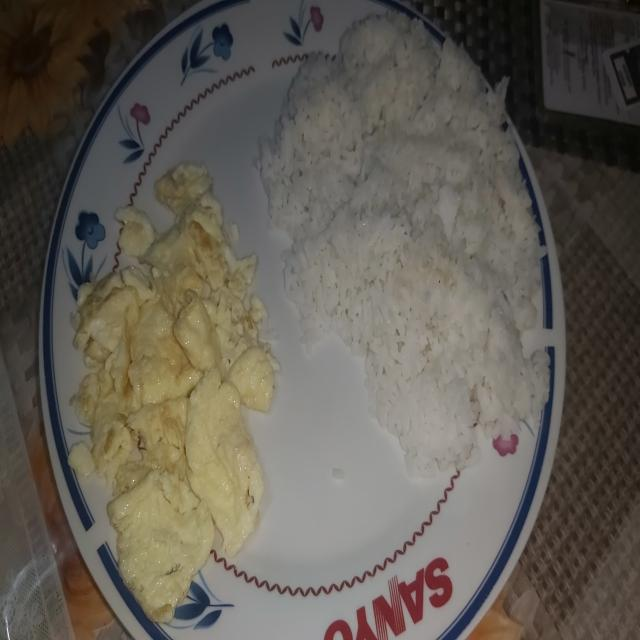Chicken -Chicken Inasal-: (264, 3, 535, 454)
